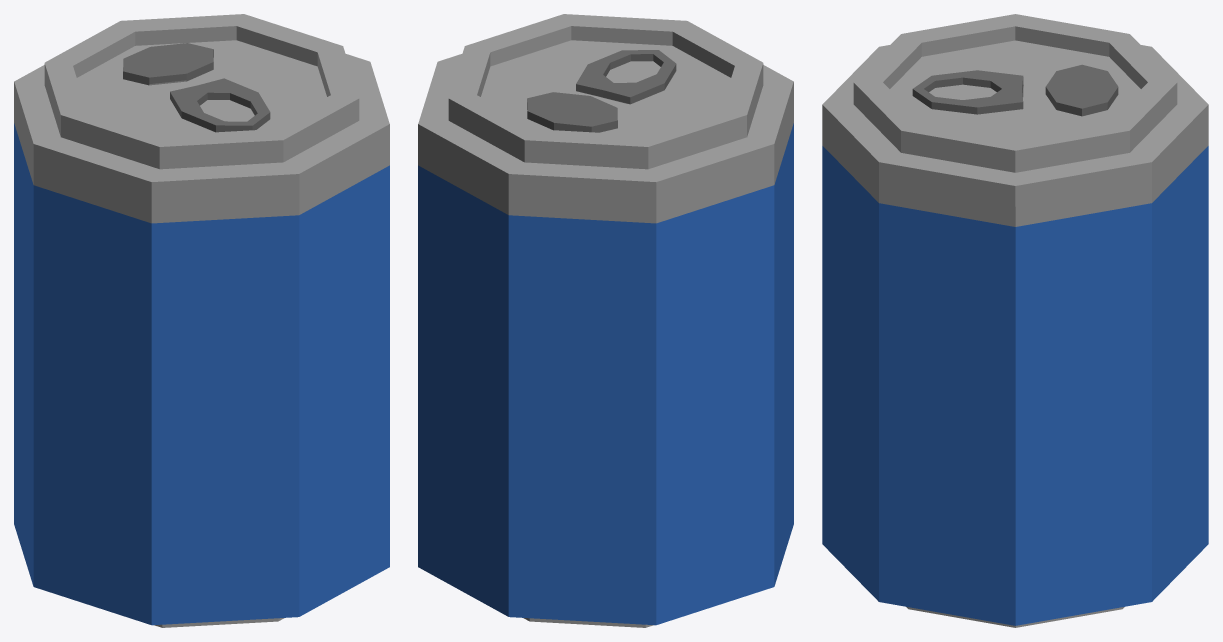
File: BlueCan.fbx
3 views of the same model, side by side, from view 1: azimuth 30°, elevation 25°; view 2: azimuth 150°, elevation 25°; view 3: azimuth 270°, elevation 25° (orthographic).
Parts seen in each view (by area): view 1: Cube.015, Cube.016, Cube.017; view 2: Cube.015, Cube.016, Cube.017; view 3: Cube.015, Cube.016, Cube.017.
Boxes of the visible parts, x1,y1,x2,y2 form: Cube.015: [14, 14, 389, 627]; Cube.016: [170, 78, 270, 132]; Cube.017: [123, 43, 213, 85]; Cube.015: [418, 14, 793, 627]; Cube.016: [576, 50, 676, 104]; Cube.017: [527, 92, 617, 132]; Cube.015: [822, 14, 1208, 627]; Cube.016: [912, 70, 1023, 114]; Cube.017: [1045, 64, 1118, 116].
Bounding box in the file's own units: 36.24 × 49.88 × 36.24.
